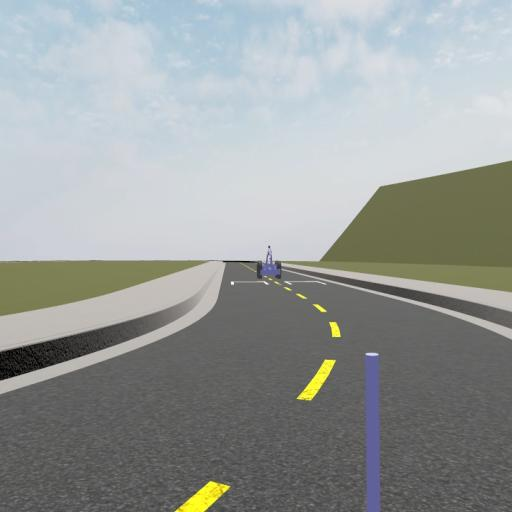ERP-42: (256, 244, 282, 280)
